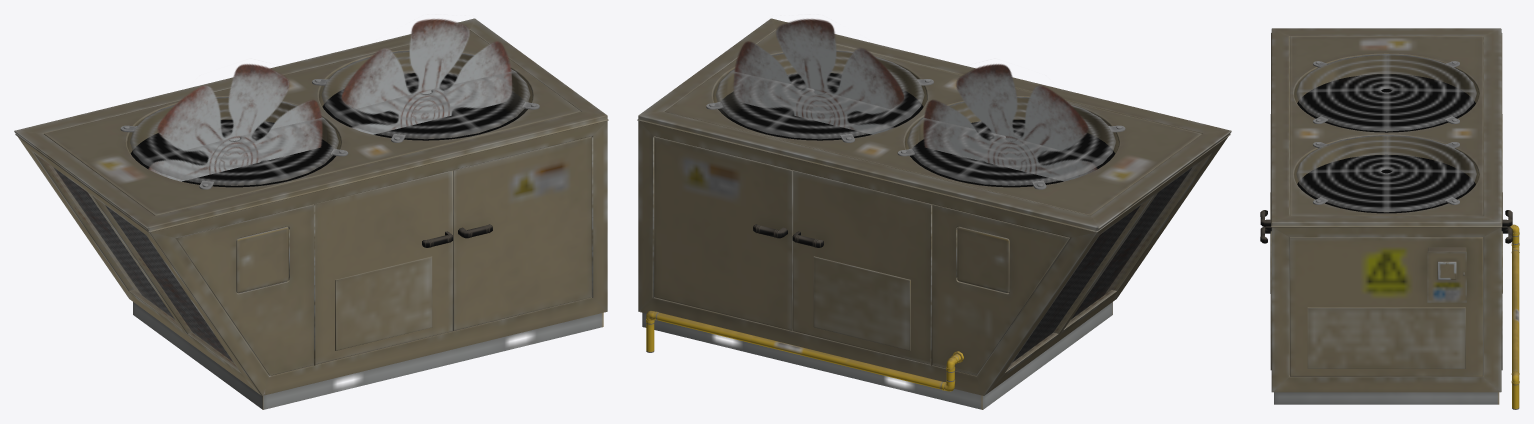
Rendered from hvac-unit-0bf1ac.glb.
3 views of the same model, side by side, from view 1: azimuth 30°, elevation 25°; view 2: azimuth 150°, elevation 25°; view 3: azimuth 270°, elevation 25° (orthographic). The views are drawn at different scales.
Parts seen in each view (by area): view 1: PropMesh; view 2: PropMesh; view 3: PropMesh.
Part boxes in pixels (left/top/right/bottom): PropMesh: left=14, top=18, right=608, bottom=409; PropMesh: left=637, top=18, right=1231, bottom=409; PropMesh: left=1260, top=28, right=1519, bottom=409.
Bounding box in the file's own units: 2.6 × 1.6 × 1.42.
Materials: 3 (3 with a texture image).
